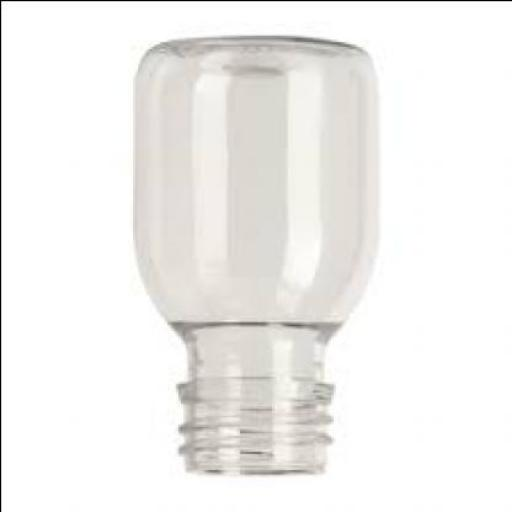glass: (137, 39, 380, 478)
